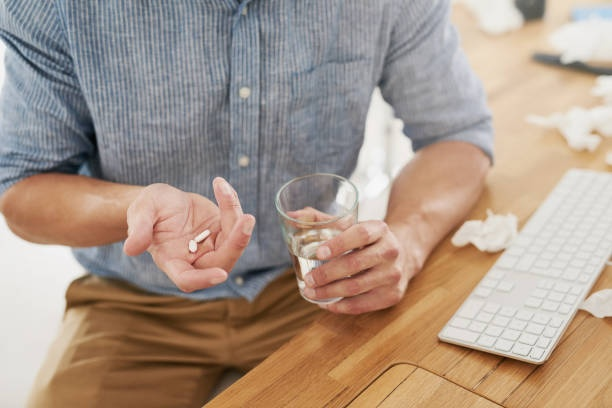pills: (186, 235, 197, 255), (194, 228, 213, 239)
